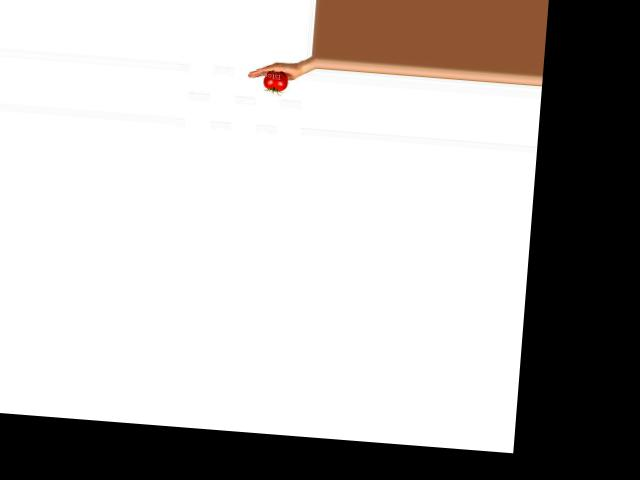tomato: (262, 70, 288, 91)
